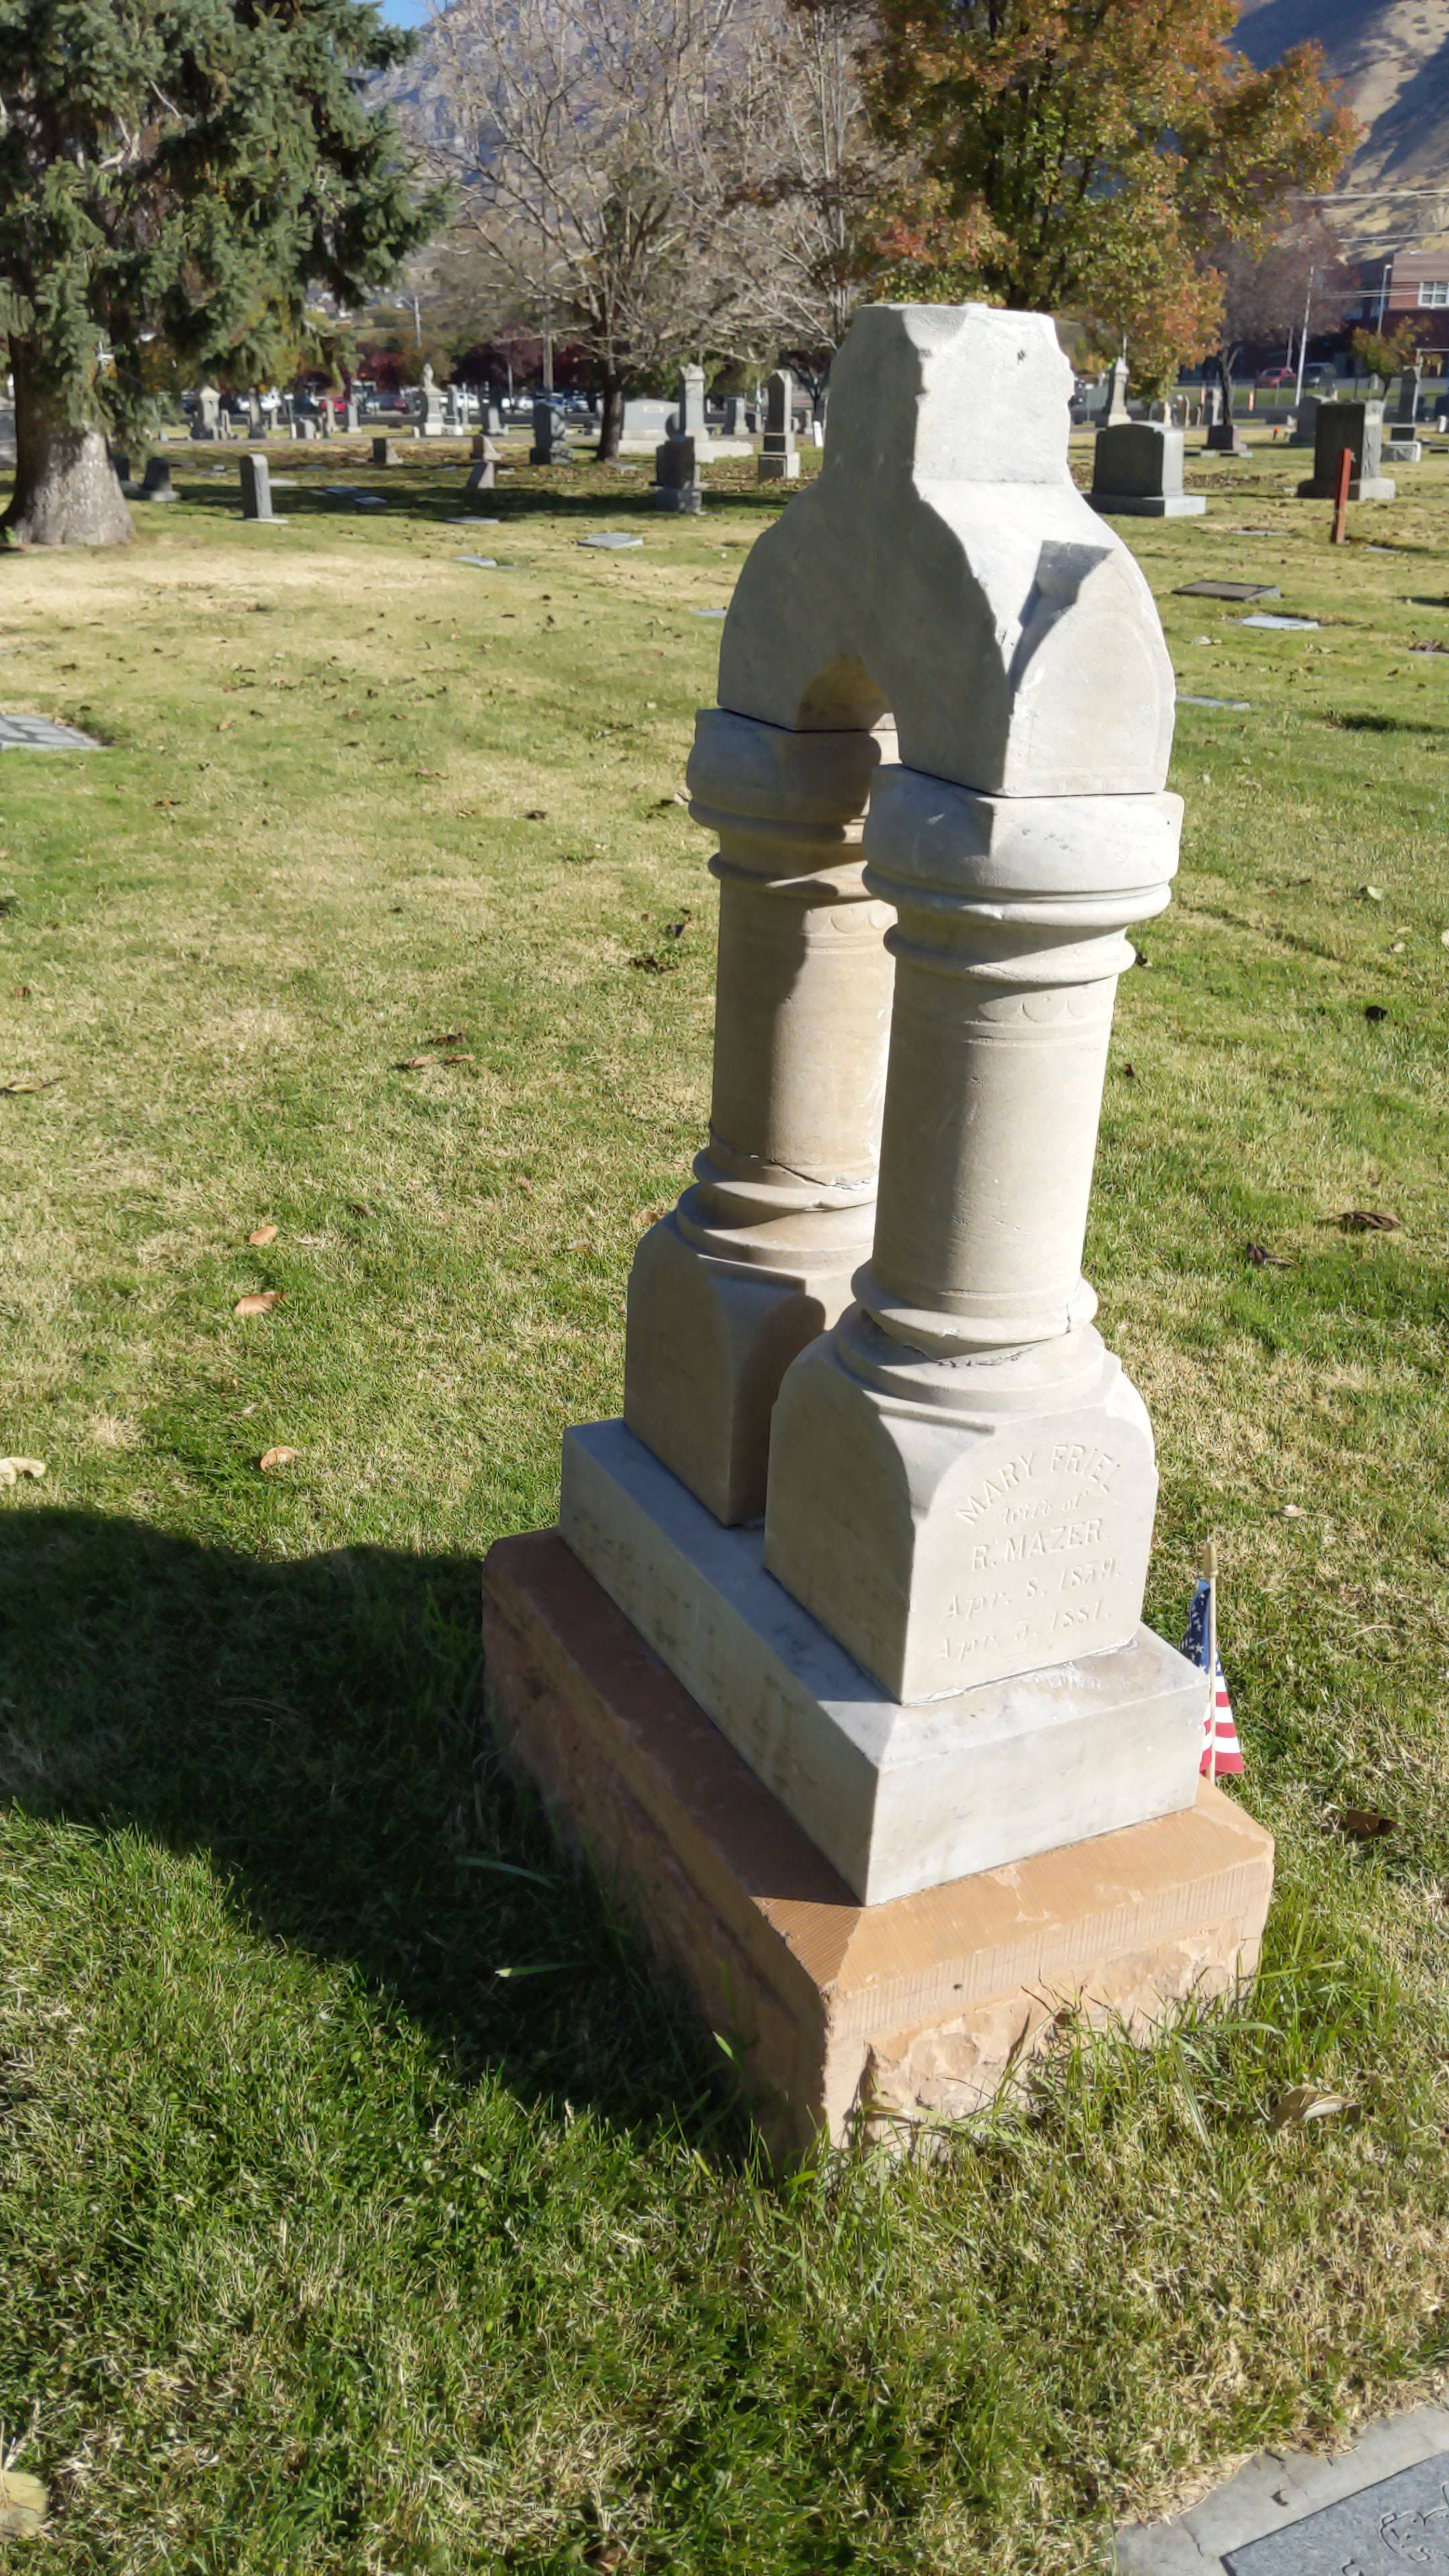obelisk: (563, 301, 1203, 1902)
